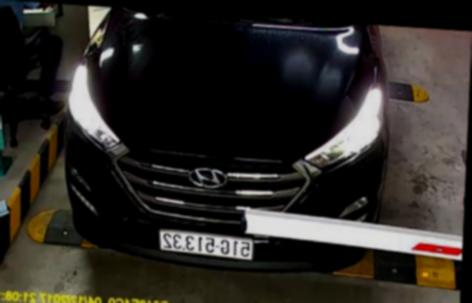License_Plate: (154, 223, 259, 266)
